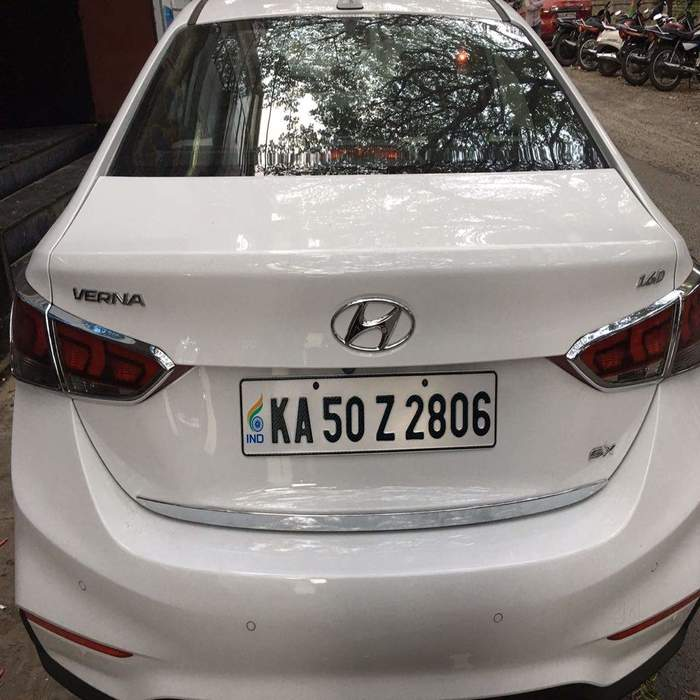n: (237, 379, 497, 449)
